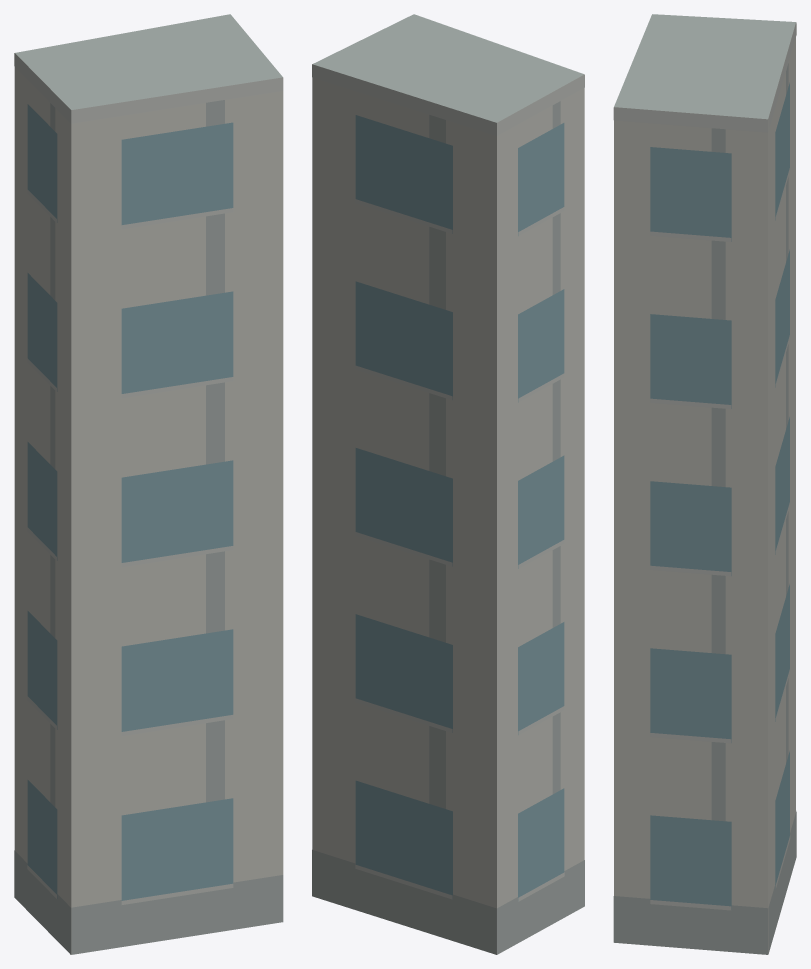
Rendered from survey-upis-33041476.glb.
The picture shows the model from 3 angles, left to right: view 1: azimuth 30°, elevation 25°; view 2: azimuth 150°, elevation 25°; view 3: azimuth 270°, elevation 25°; orthographic projection.
Visible parts, largest first — view 1: survey-upis-33041476.tmp; view 2: survey-upis-33041476.tmp; view 3: survey-upis-33041476.tmp.
Boxes of the visible parts, x1,y1,x2,y2 form: survey-upis-33041476.tmp: (14,14,283,954); survey-upis-33041476.tmp: (312,14,584,954); survey-upis-33041476.tmp: (613,14,796,954).
Bounding box in the file's own units: 4.13 × 15.25 × 3.03.
